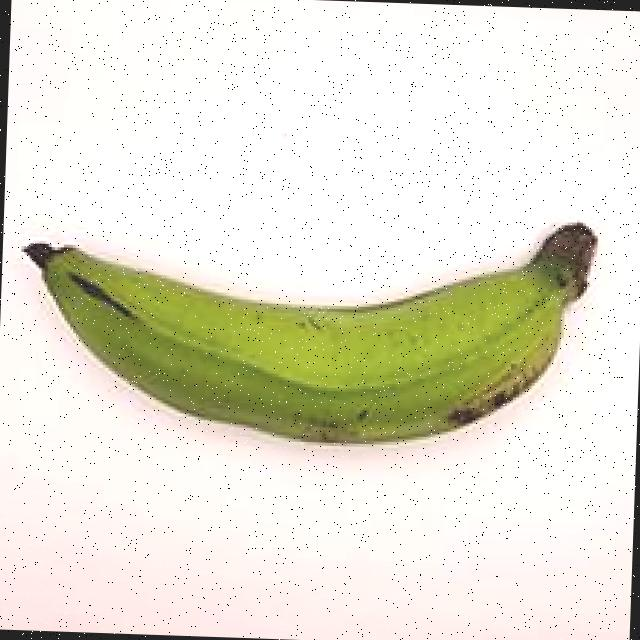Raw: (0, 169, 639, 477)
